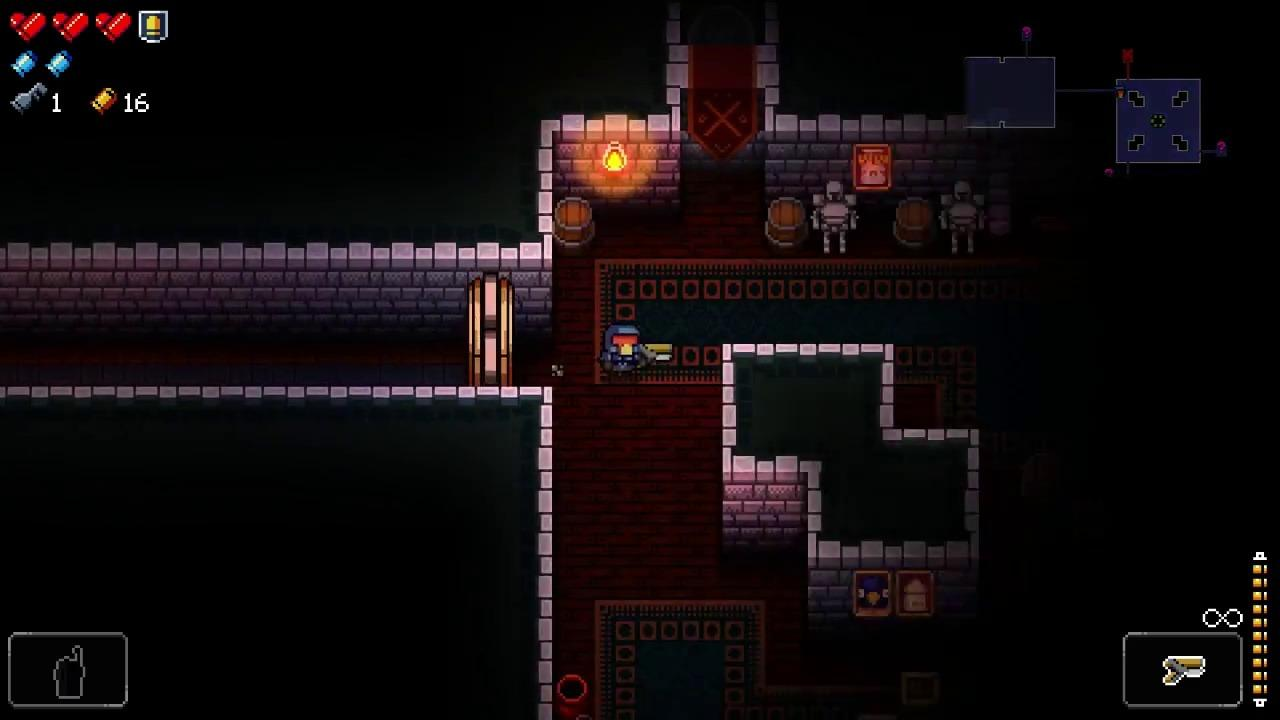blocked_door: (680, 44, 765, 171)
locked_door: (469, 272, 512, 388)
player: (604, 321, 642, 377)
